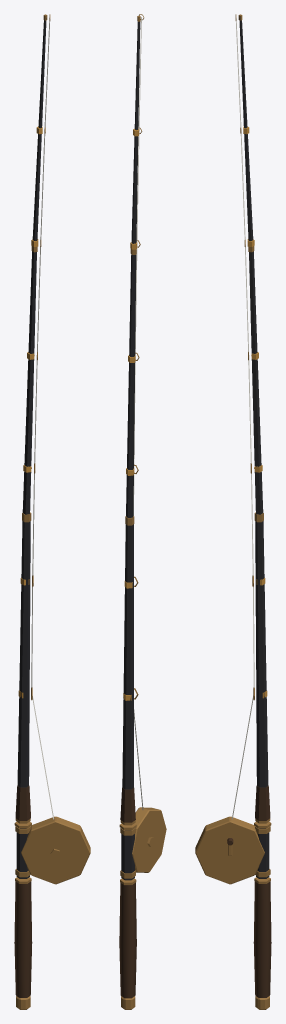
File: tool_fishing_rod_offshore_a.glb
The picture shows the model from 3 angles, left to right: view 1: azimuth 90°, elevation 25°; view 2: azimuth 150°, elevation 25°; view 3: azimuth 270°, elevation 25°; orthographic projection.
Visible parts, largest first — view 1: rod_blank_section_1, rod_butt_cap, rod_foregrip, rod_line_segment_00, rod_guide_wrap_00; view 2: rod_blank_section_1, rod_butt_cap, rod_foregrip, rod_line_segment_00, rod_guide_wrap_00; view 3: rod_blank_section_1, rod_butt_cap, rod_foregrip, rod_line_segment_00, rod_guide_wrap_00.
Boxes of the visible parts, left/top/right/bottom form: rod_blank_section_1: left=16, top=18, right=46, bottom=878; rod_butt_cap: left=14, top=14, right=90, bottom=1009; rod_foregrip: left=14, top=785, right=32, bottom=997; rod_line_segment_00: left=31, top=18, right=53, bottom=819; rod_guide_wrap_00: left=18, top=126, right=42, bottom=698; rod_blank_section_1: left=121, top=21, right=140, bottom=880; rod_butt_cap: left=119, top=14, right=166, bottom=1009; rod_foregrip: left=119, top=787, right=136, bottom=998; rod_line_segment_00: left=133, top=17, right=143, bottom=809; rod_guide_wrap_00: left=123, top=129, right=139, bottom=700; rod_blank_section_1: left=239, top=18, right=269, bottom=878; rod_butt_cap: left=195, top=14, right=271, bottom=1009; rod_foregrip: left=227, top=785, right=271, bottom=997; rod_line_segment_00: left=232, top=18, right=254, bottom=819; rod_guide_wrap_00: left=243, top=126, right=267, bottom=698.
Size of the model in its own units: 0.0699 by 3.22 by 0.2234.
